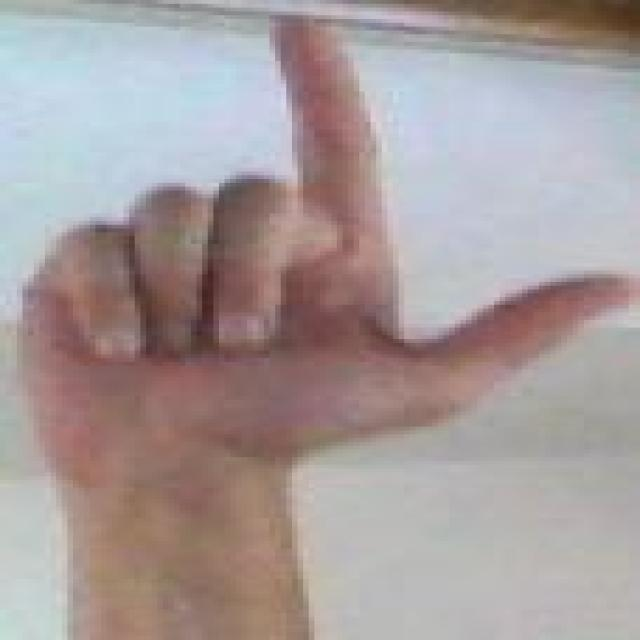L: (0, 9, 640, 452)
